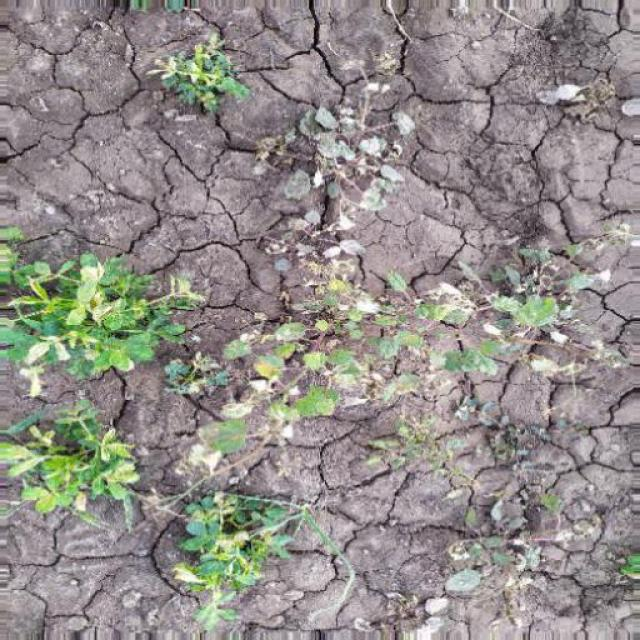weed: (194, 296, 574, 449), (1, 230, 181, 396), (158, 480, 320, 640), (1, 407, 154, 528), (130, 28, 260, 122)
